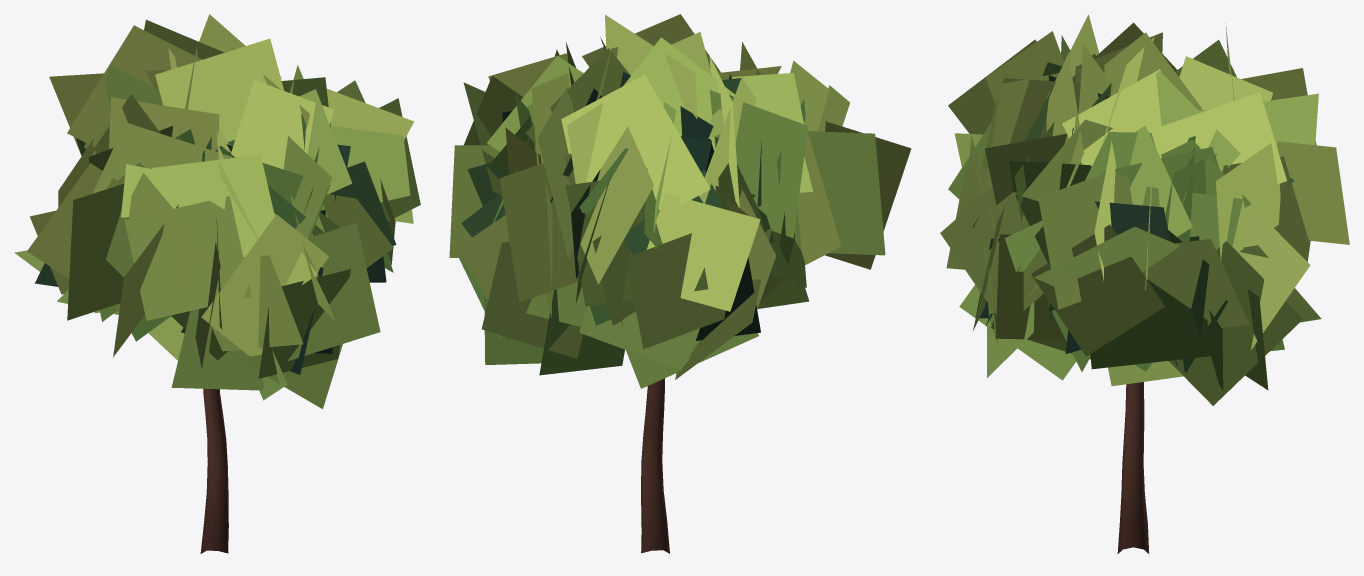
Rendered from BroadleafSmall.fbx.
3 views of the same model, side by side, from view 1: azimuth 30°, elevation 25°; view 2: azimuth 150°, elevation 25°; view 3: azimuth 270°, elevation 25° (orthographic). The views are drawn at different scales.
Visible parts, largest first — view 1: BroadleafSmall; view 2: BroadleafSmall; view 3: BroadleafSmall.
Part boxes in pixels (x1,y1,x2,y2): BroadleafSmall: (14, 14, 420, 553); BroadleafSmall: (449, 14, 911, 553); BroadleafSmall: (940, 14, 1349, 553).
Bounding box in the file's own units: 4.37 × 5.75 × 4.13.
